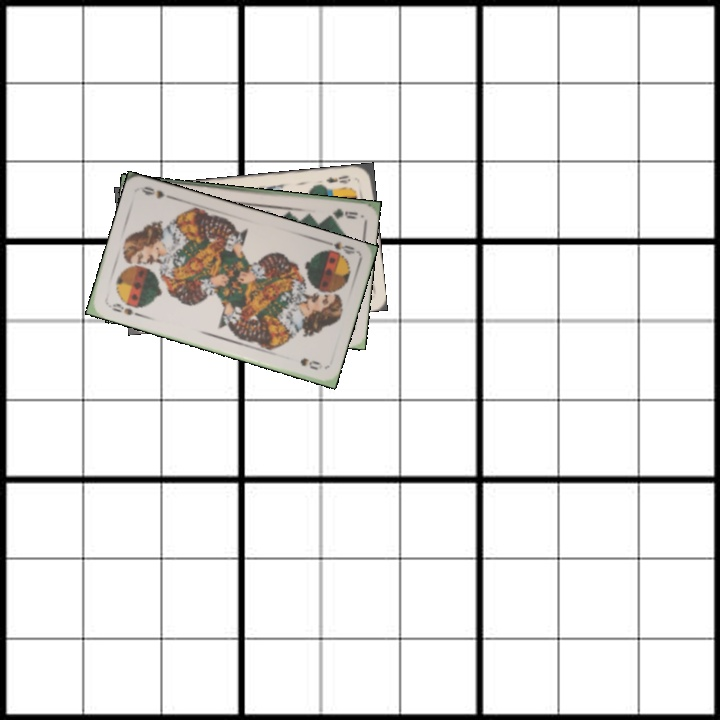EO: (322, 171, 353, 186)
G9: (322, 204, 360, 222)
SO: (317, 236, 357, 260), (104, 298, 143, 319)
